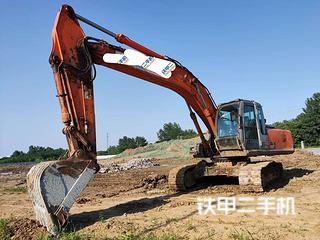excavator: (26, 1, 298, 240)
